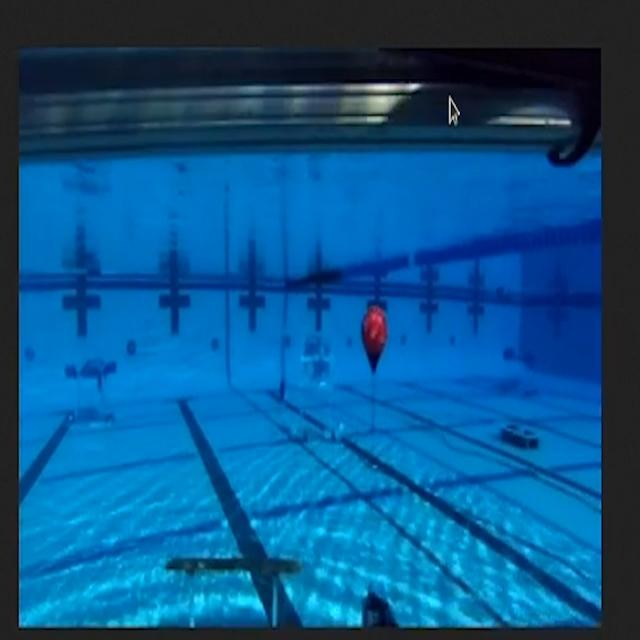Buoy: (350, 295, 407, 393)
Path: (163, 534, 302, 628)
